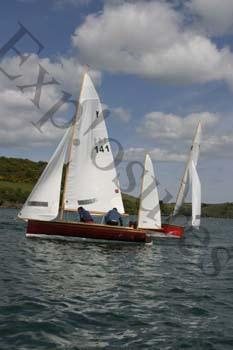Ship: (18, 70, 163, 247), (160, 124, 211, 239)
